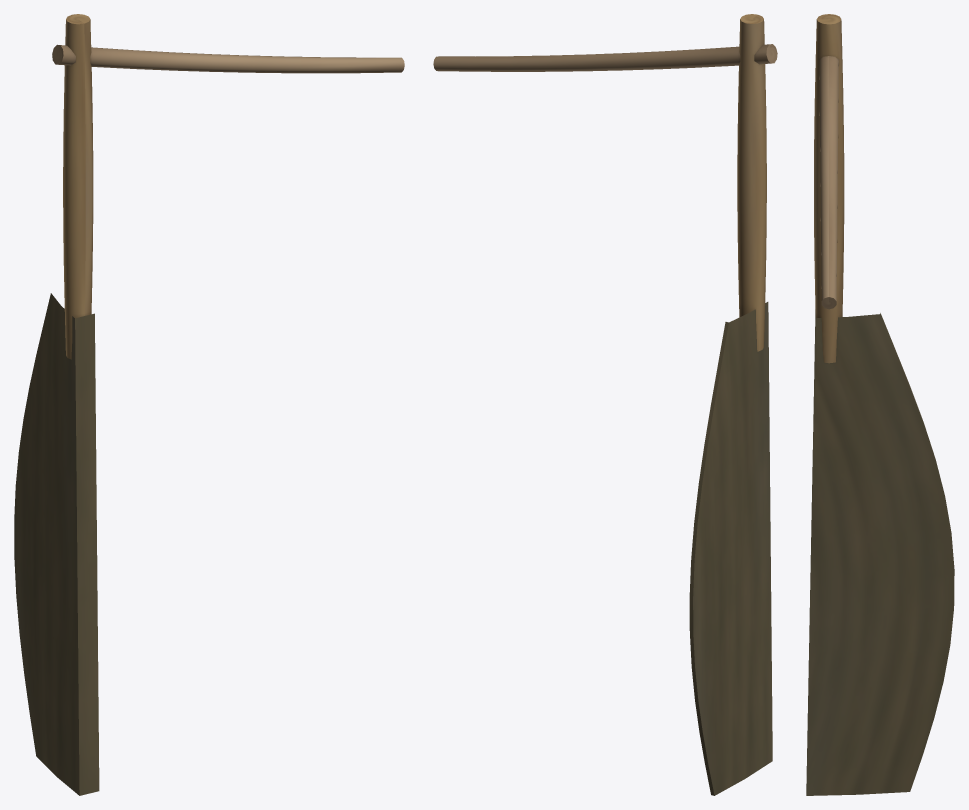
File: DriftBoatRudder.gltf
The picture shows the model from 3 angles, left to right: view 1: azimuth 30°, elevation 25°; view 2: azimuth 150°, elevation 25°; view 3: azimuth 270°, elevation 25°; orthographic projection. The views are drawn at different scales.
Parts seen in each view (by area): view 1: DriftBoatRudder; view 2: DriftBoatRudder; view 3: DriftBoatRudder.
Boxes of the visible parts, x1=… form: DriftBoatRudder: x1=14, y1=14, x2=404, y2=795; DriftBoatRudder: x1=433, y1=14, x2=777, y2=795; DriftBoatRudder: x1=806, y1=14, x2=954, y2=795.
Bounding box in the file's own units: 0.9795 × 2.07 × 0.3595.
1 material, 1 textured.
